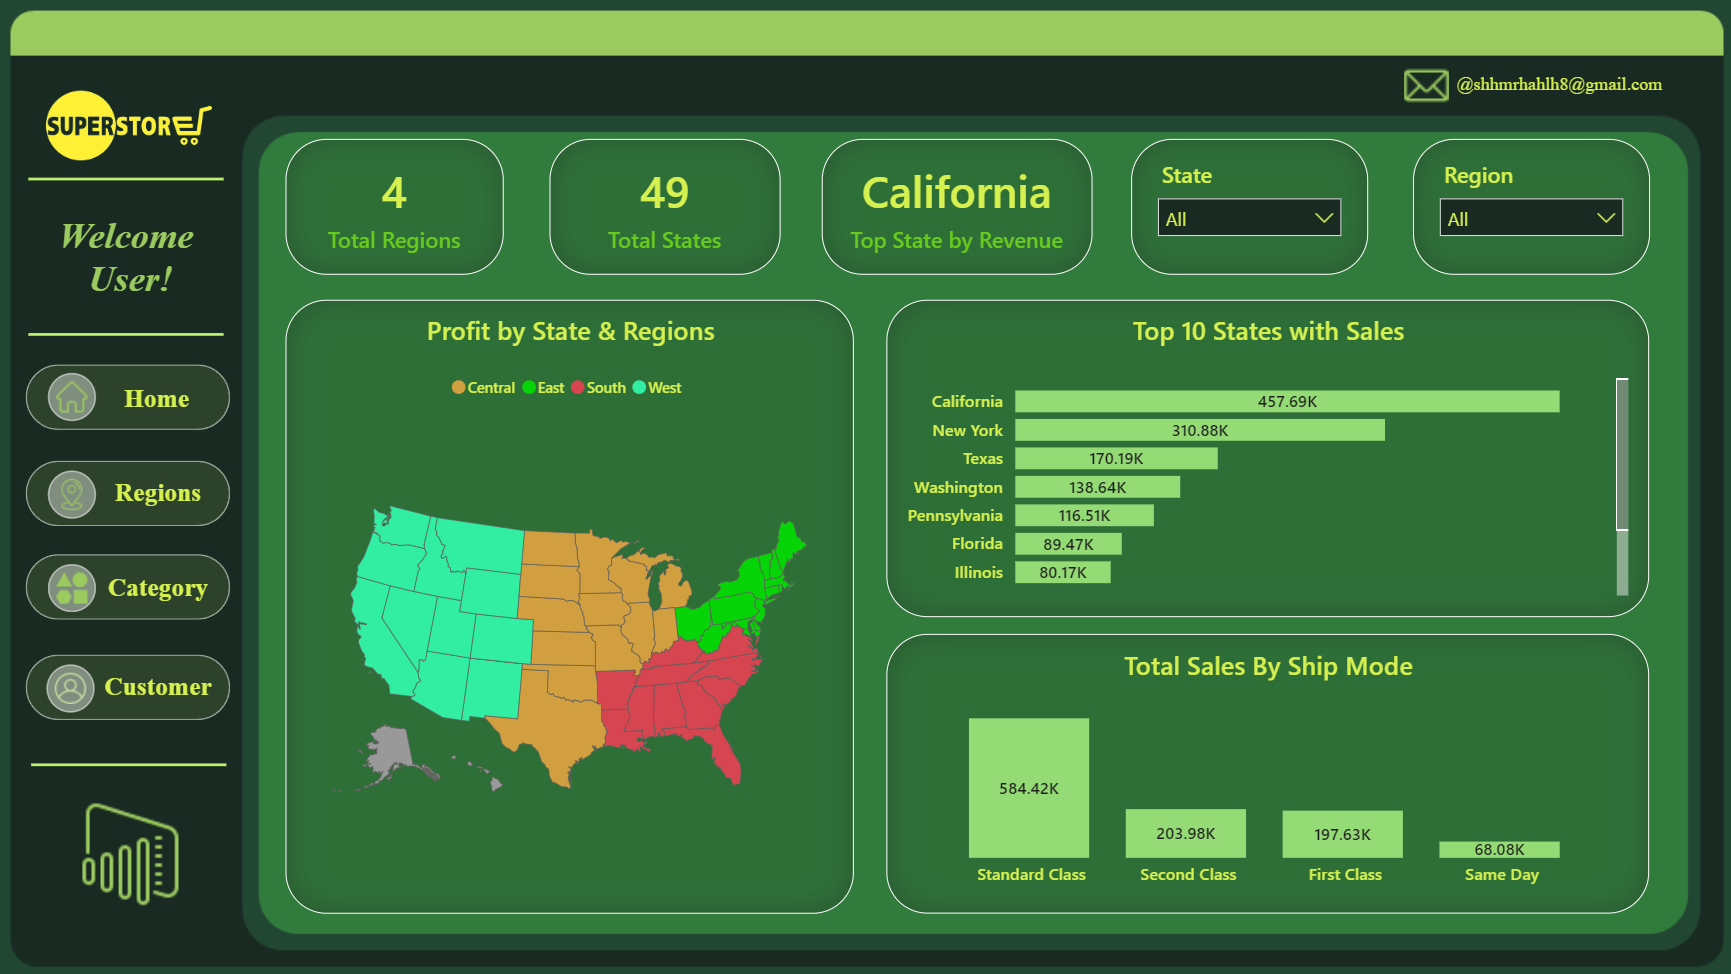

What the dashboard file says about the page in this screenshot:
{"tool":"powerbi","page":{"name":"Regions","canvas":[1280,720],"ordinal":1},"visuals":[{"type":"shape","box":[24.8,107.6,143.1,46.8],"z":0},{"type":"shape","box":[27.6,536.9,143.1,46.8],"z":1000},{"type":"shape","box":[24.8,222.2,143.1,46.8],"z":2000},{"type":"textbox","box":[24.8,151.8,150,75.7],"z":3000},{"type":"shape","box":[23.7,267.6,150,48.2],"z":4000},{"type":"shape","box":[23.7,337.8,150,48.2],"z":5000},{"type":"shape","box":[23.7,406.6,150,48.2],"z":6000},{"type":"shape","box":[23.7,479.6,150,48.2],"z":7000},{"type":"card","fields":{"Values":["M_ta1.Top State by Revenue"]},"box":[607.3,102.1,198.7,99.4],"z":8000},{"type":"card","fields":{"Values":["Count(Dim_Location.Region)"]},"box":[213.9,102.1,160.1,99.4],"z":9000},{"type":"card","fields":{"Values":["Count(Dim_Location.State)"]},"box":[407.1,102.1,169.8,99.4],"z":10000},{"type":"shapeMap","title":"Profit by State & Regions","fields":{"Category":["Dim_Location.State"],"Series":["Dim_Location.Region"],"Value":["Sum(Fact_Sales.Profit)"]},"box":[213.9,219.4,416.8,449.9],"z":11000},{"type":"image","box":[39.4,268,35.8,45.4],"z":12000},{"type":"image","box":[39.4,339.6,35.8,45.4],"z":13000},{"type":"image","box":[39.4,408.4,35.8,45.4],"z":14000},{"type":"image","box":[38.8,482.3,35.8,45.4],"z":15000},{"type":"textbox","box":[74.6,275.9,89.5,33],"z":16000},{"type":"textbox","box":[76,346.1,89.5,33],"z":17000},{"type":"textbox","box":[76,414.9,89.5,33],"z":18000},{"type":"textbox","box":[76,487.8,89.5,33],"z":19000},{"type":"image","box":[1030.8,46.8,39.9,33],"z":20000},{"type":"textbox","box":[1060.8,46.2,174.8,33],"z":21000},{"type":"image","box":[31.7,583.8,139,85.3],"z":22000},{"type":"slicer","fields":{"Values":["Dim_Location.State"]},"box":[833.6,102.1,173.9,99.4],"z":23000},{"type":"barChart","title":"Top 10 States with Sales","fields":{"Category":["Dim_Location.State"],"Y":["Sum(Fact_Sales.Sales)"]},"box":[654.5,219.8,559,232.4],"z":24000},{"type":"slicer","fields":{"Values":["Dim_Location.Region"]},"box":[1040.6,102.1,173.9,99.4],"z":25000},{"type":"clusteredColumnChart","title":"Total Sales By Ship Mode","fields":{"Category":["Dim_Order.Ship_Mode"],"Y":["Sum(Fact_Sales.Sales)"]},"box":[654.5,464.8,559,204.8],"z":26000},{"type":"image","box":[13.8,27.6,171.1,127],"z":27000}]}

Visuals, with their boxes in screenshot pixels (x1, y1, x2, y2), scaled from the page's 1280x720 canvas onto the 1731x974 screenshot:
shape: 34/146/227/209
shape: 37/726/231/790
shape: 34/301/227/364
textbox: 34/205/236/308
shape: 32/362/235/427
shape: 32/457/235/522
shape: 32/550/235/615
shape: 32/649/235/714
card - M_ta1.Top State by Revenue: 821/138/1090/273
card - Count(Dim_Location.Region): 289/138/506/273
card - Count(Dim_Location.State): 551/138/780/273
"Profit by State & Regions" shapeMap: 289/297/853/905
image: 53/363/102/424
image: 53/459/102/521
image: 53/552/102/614
image: 52/652/101/714
textbox: 101/373/222/418
textbox: 103/468/224/513
textbox: 103/561/224/606
textbox: 103/660/224/705
image: 1394/63/1448/108
textbox: 1435/62/1671/107
image: 43/790/231/905
slicer - Dim_Location.State: 1127/138/1362/273
"Top 10 States with Sales" barChart: 885/297/1641/612
slicer - Dim_Location.Region: 1407/138/1642/273
"Total Sales By Ship Mode" clusteredColumnChart: 885/629/1641/906
image: 19/37/250/209
